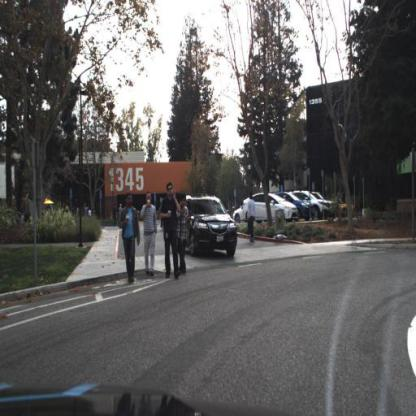car: (182, 191, 238, 259), (241, 190, 299, 222), (288, 189, 335, 222), (274, 191, 315, 222), (313, 188, 335, 220), (232, 201, 244, 224)
pedestrian: (157, 182, 181, 279), (118, 191, 142, 283), (139, 188, 160, 276), (141, 192, 157, 277), (175, 191, 191, 274), (246, 192, 257, 245), (82, 202, 92, 223)
